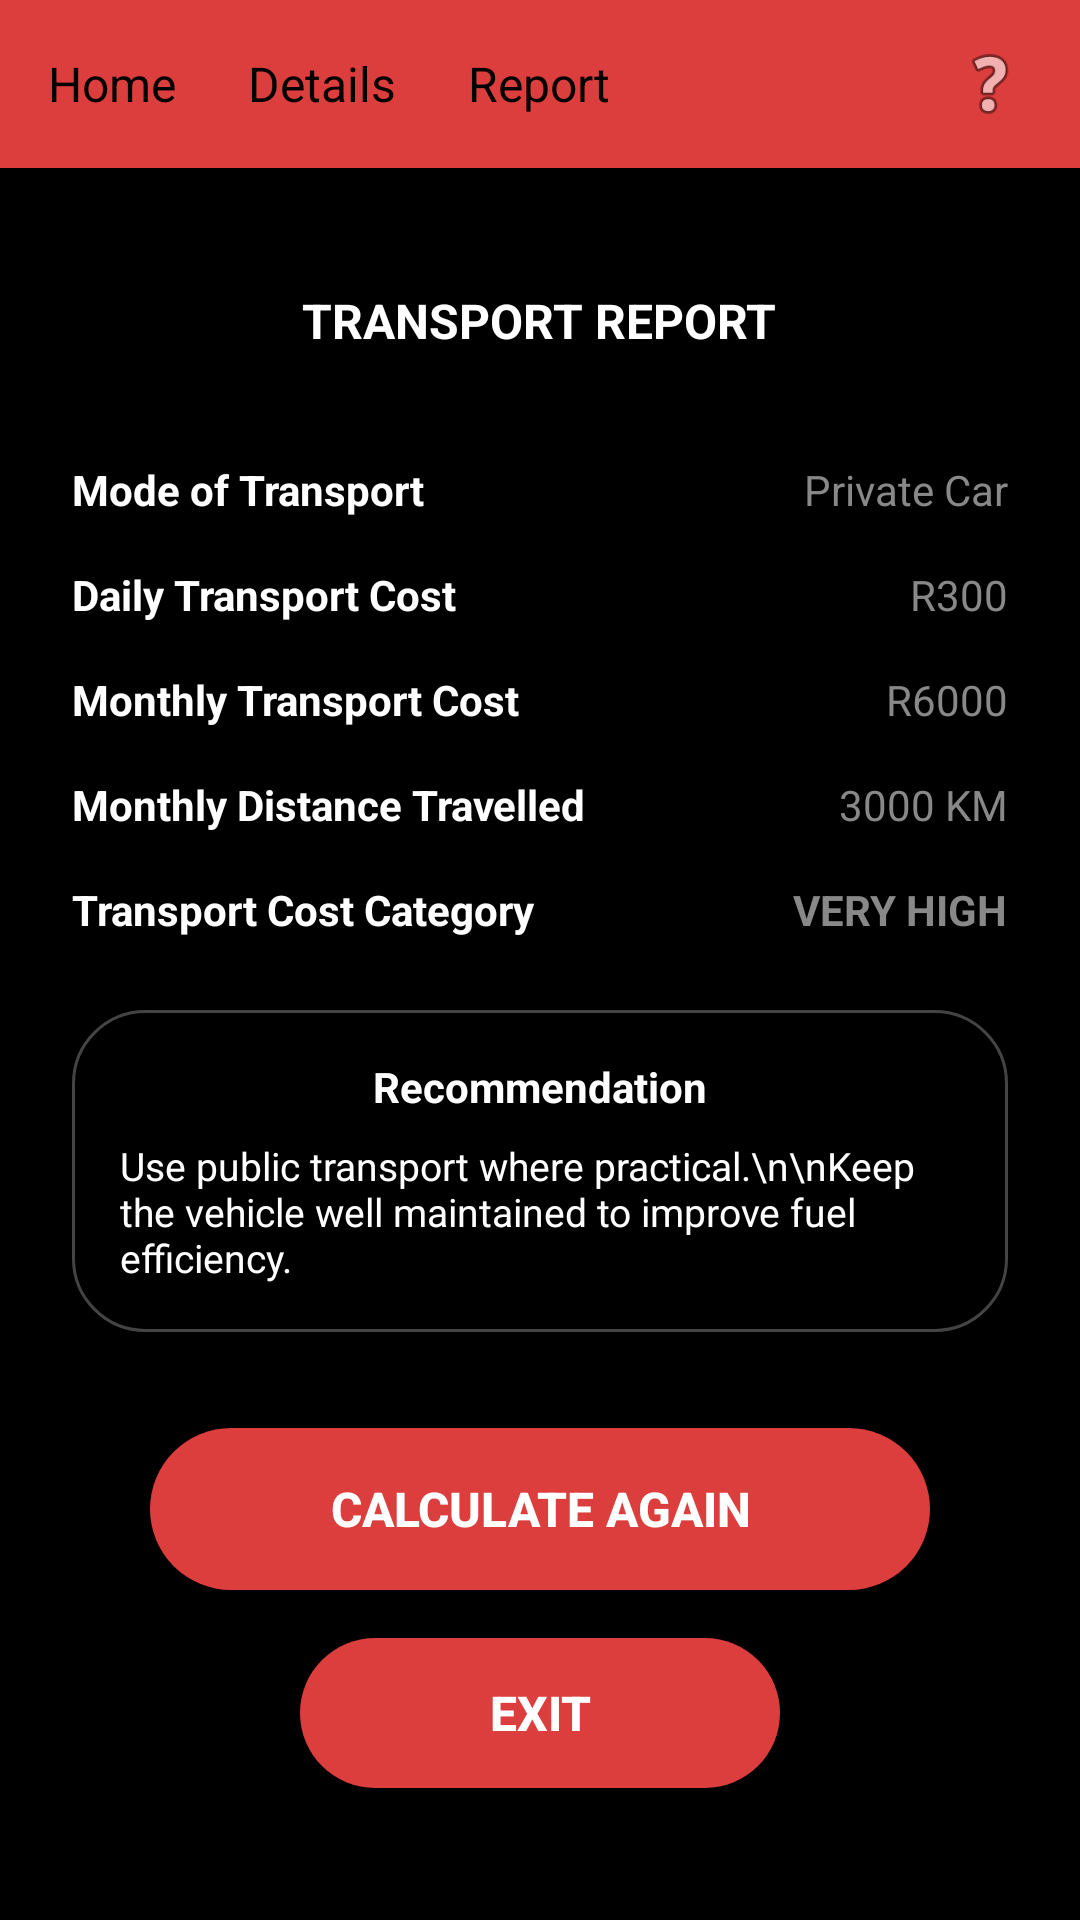

Point at icon controls on the screen. Image size 1080*1920, points as point (x, y).
Help: point (990, 84)
